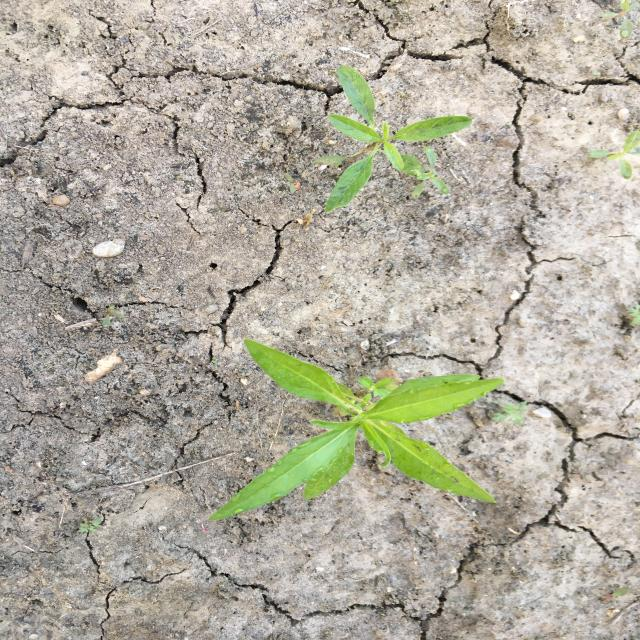Eclipta: (200, 337, 506, 524)
Waterhemp: (308, 64, 474, 215)
